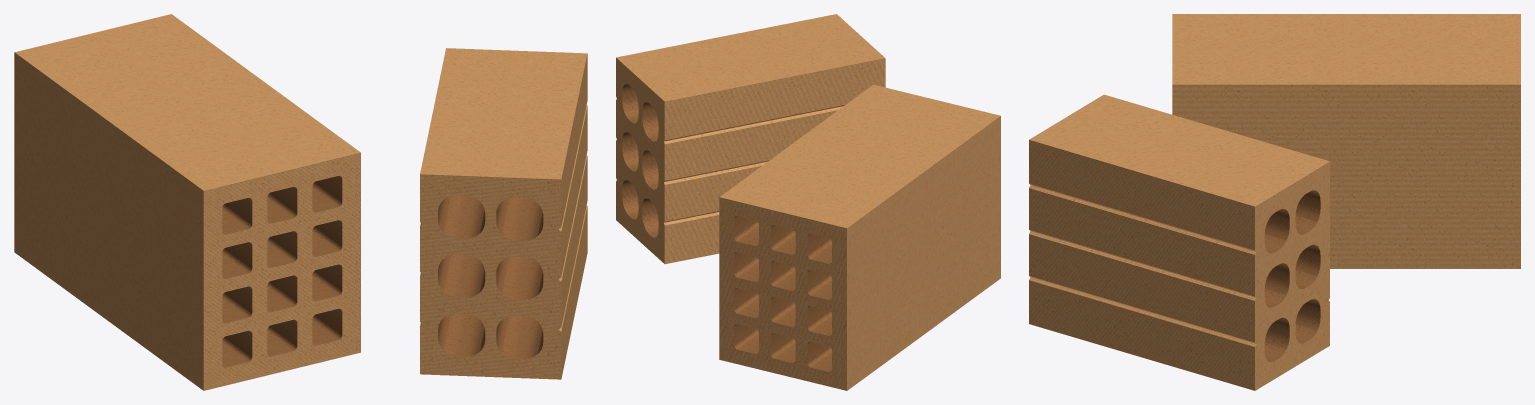
File: tijolos_23_02_web.glb
3 renders of one model, left to right at view 1: azimuth 30°, elevation 25°; view 2: azimuth 150°, elevation 25°; view 3: azimuth 270°, elevation 25°, orthographic. The views are drawn at different scales.
Parts seen in each view (by area): view 1: Tijolo_12_Furos, Tijolo_6_Furos; view 2: Tijolo_12_Furos, Tijolo_6_Furos; view 3: Tijolo_6_Furos, Tijolo_12_Furos.
Boxes of the visible parts, <box> form: Tijolo_12_Furos: <box>14,14,360,390</box>; Tijolo_6_Furos: <box>420,48,587,379</box>; Tijolo_12_Furos: <box>719,84,1000,390</box>; Tijolo_6_Furos: <box>616,14,885,264</box>; Tijolo_6_Furos: <box>1029,94,1329,390</box>; Tijolo_12_Furos: <box>1172,14,1520,268</box>.
Size of the model in its own units: 0.3139 by 0.14 by 0.3386.
2 materials, 2 textured.
